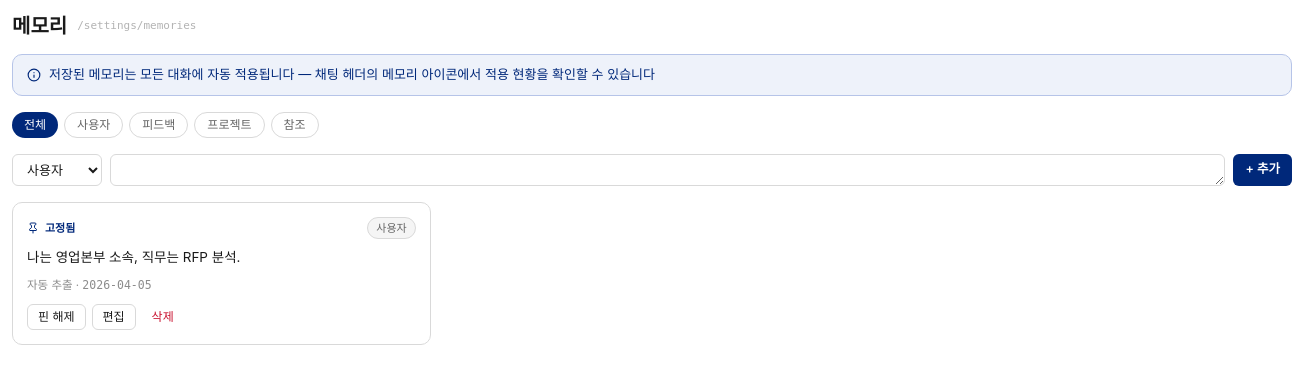
Test: MemoryManager › 편집 버튼으로 내용을 수정한다
The image size is (1304, 381).
Check: the text "나는 영업본부 소속, 직무는 RFP 분석." is shown, box [27, 249, 240, 265]
Click the button "편집" at (114, 317), box [92, 304, 136, 330]
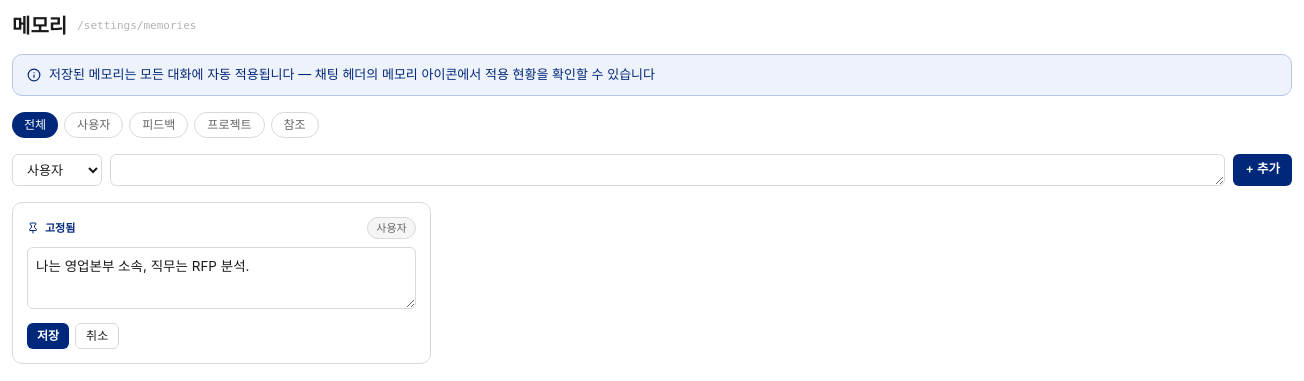
Replace the text in the text box named "mem-1 편집 내용" with "수정된 내용" at (221, 278), box [27, 247, 416, 309]
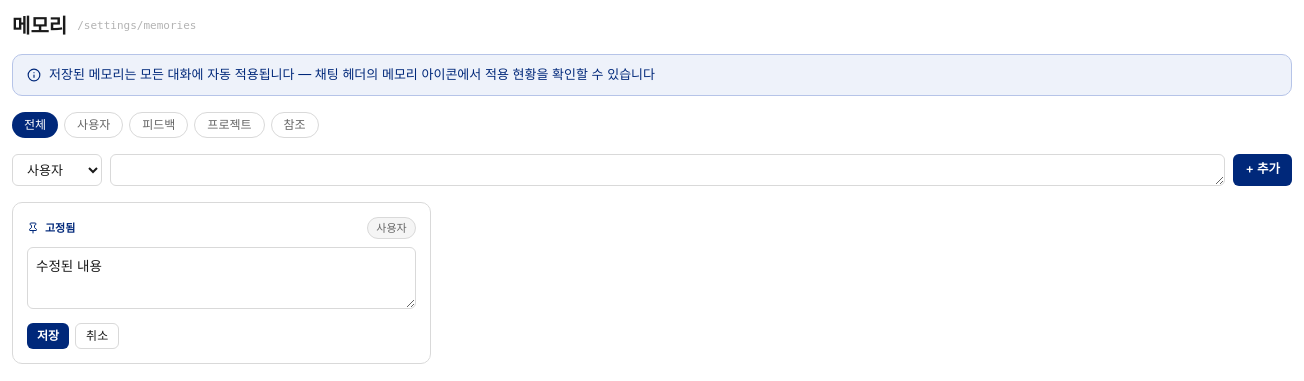
Click the button "저장" at (48, 336), box [27, 323, 69, 349]
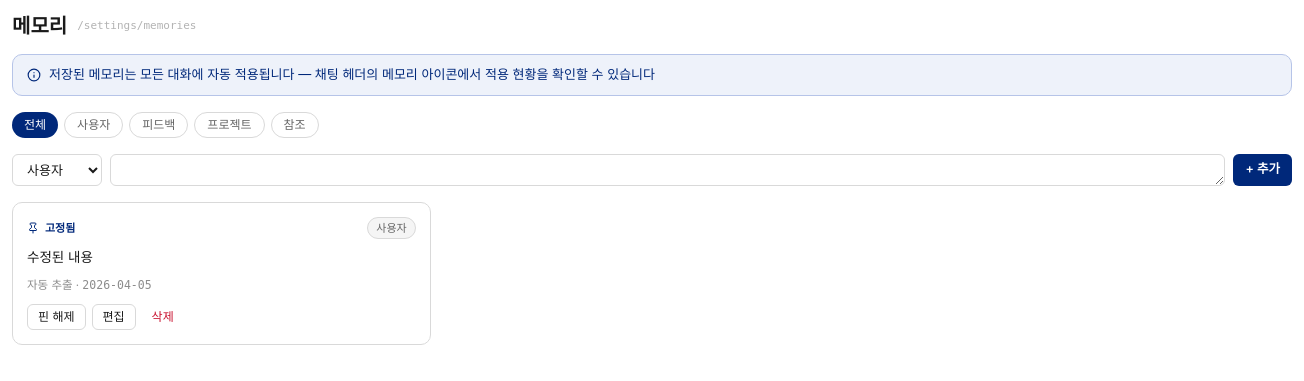
Check: the text "수정된 내용" is shown, box [27, 249, 93, 265]
